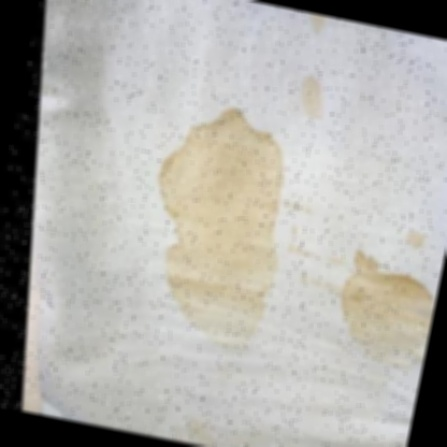coffee: (163, 126, 280, 309), (337, 272, 435, 363)
